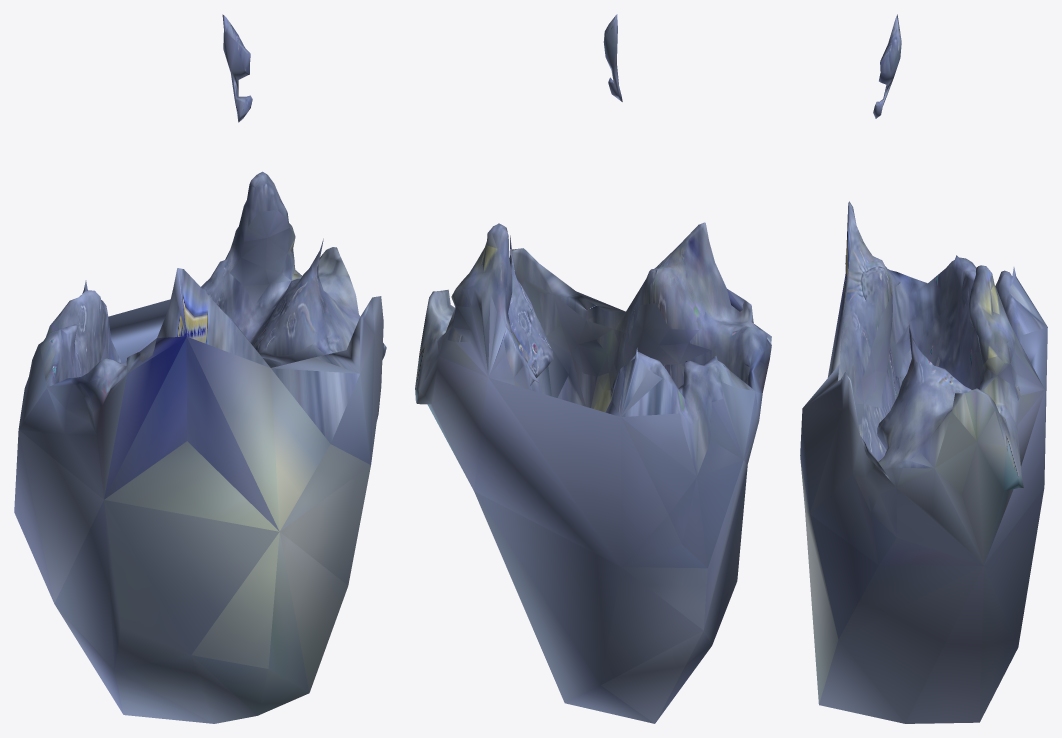
The model's file is levelup1210P190522.glb.
3 renders of one model, left to right at view 1: azimuth 30°, elevation 25°; view 2: azimuth 150°, elevation 25°; view 3: azimuth 270°, elevation 25°, orthographic. The views are drawn at different scales.
Parts seen in each view (by area): view 1: levelup_newbodypart_1210P190522; view 2: levelup_newbodypart_1210P190522; view 3: levelup_newbodypart_1210P190522.
Part boxes in pixels (x1,y1,x2,y2): levelup_newbodypart_1210P190522: [14, 14, 386, 723]; levelup_newbodypart_1210P190522: [415, 14, 771, 723]; levelup_newbodypart_1210P190522: [800, 14, 1047, 723].
Size of the model in its own units: 11.82 by 24.28 by 7.65.
Materials: 1 (1 with a texture image).
